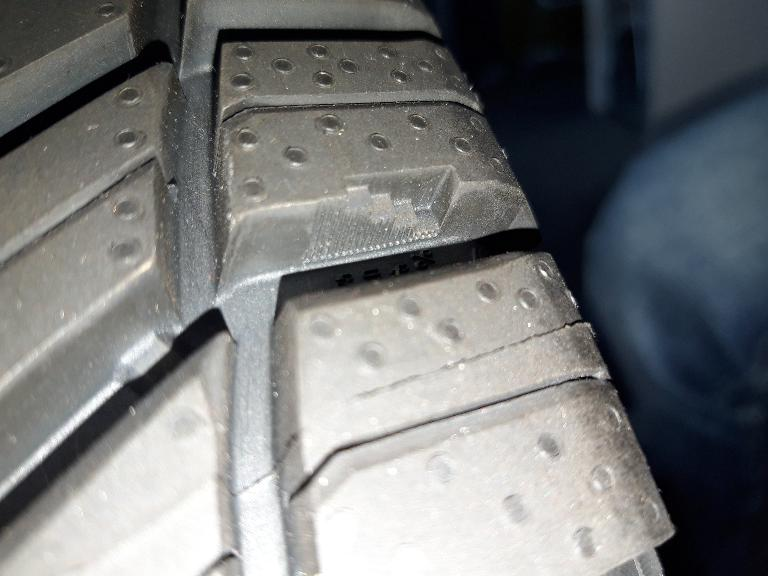temoin:100: (302, 162, 462, 267)
